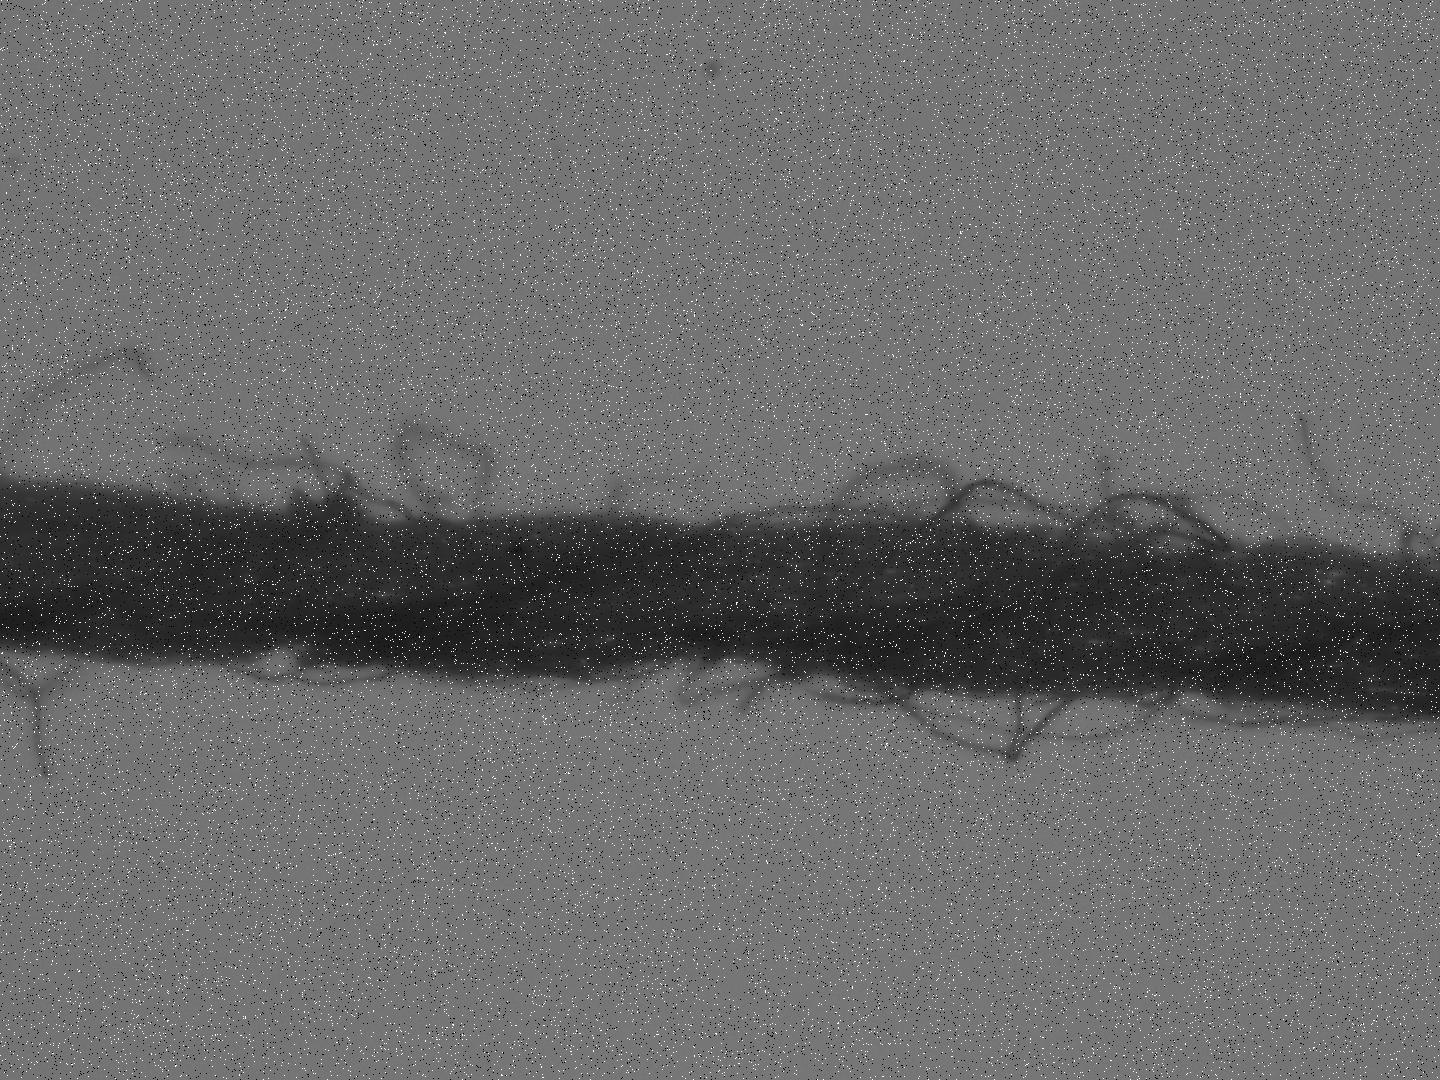loop_fiber: (700, 462, 1302, 556), (846, 673, 1181, 741), (857, 674, 1094, 766), (1154, 687, 1439, 746), (212, 641, 403, 689), (674, 655, 825, 707), (283, 469, 421, 525), (603, 475, 712, 532), (164, 467, 253, 521)
protruding_fiber: (1294, 412, 1440, 558), (1, 347, 147, 479), (396, 422, 499, 526), (1, 649, 57, 782), (307, 439, 340, 514)
